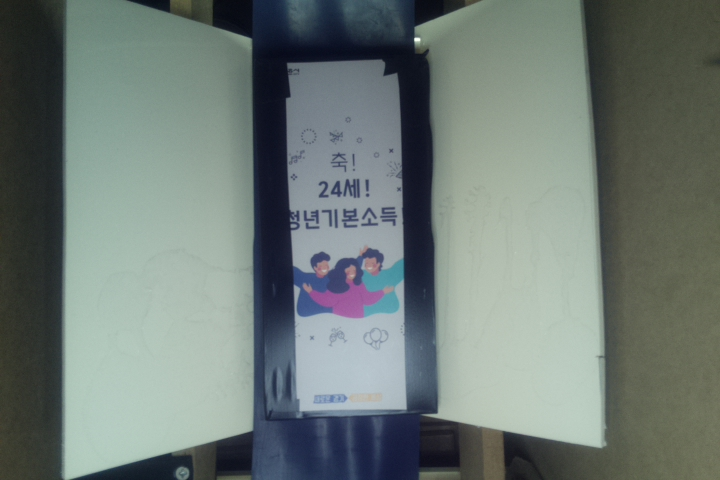book: (259, 48, 437, 423)
